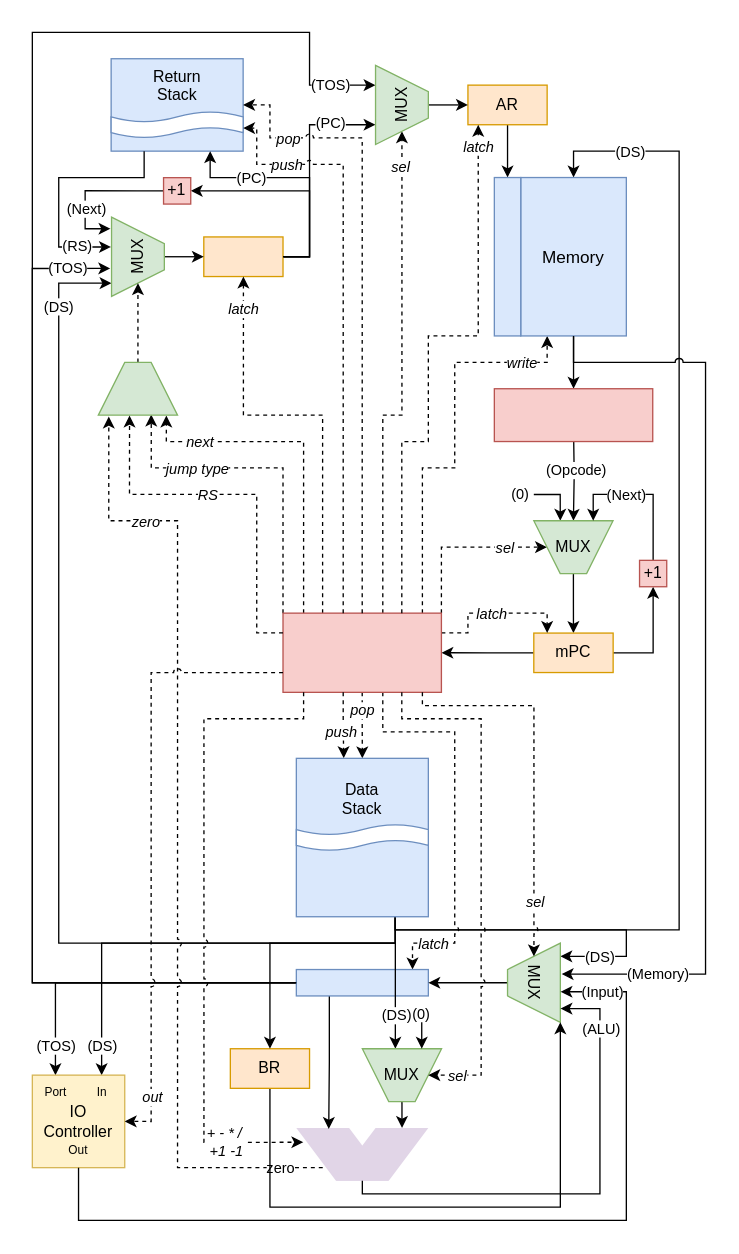
Some shapes in this 739 by 1254 pixel diagram are drawn without their labels. Each missing label, with the centre of its shape:
"Address" goes at pixel 507 256.
"ALU" goes at pixel 342 1153.
"Decoder" goes at pixel 361 652.
"ENC" goes at pixel 137 388.
"opcode -> mPC" goes at pixel 573 414.
"Program Counter" goes at pixel 242 256.
"TOS" goes at pixel 361 982.
